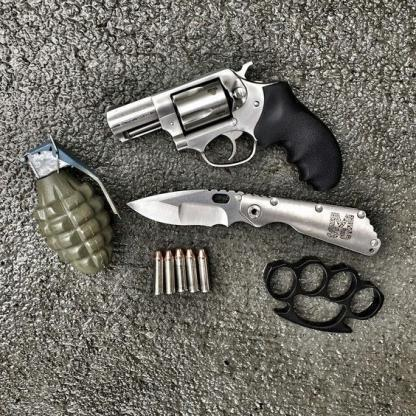Grenade: (18, 134, 127, 277)
Knife: (124, 181, 383, 260)
Pistol: (105, 57, 341, 191)
